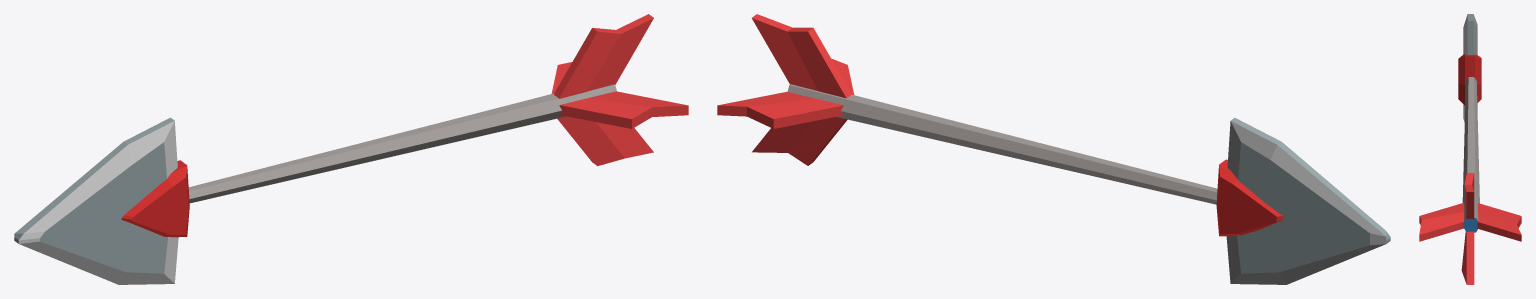
3 renders of one model, left to right at view 1: azimuth 30°, elevation 25°; view 2: azimuth 150°, elevation 25°; view 3: azimuth 270°, elevation 25°, orthographic. The views are drawn at different scales.
Visible parts, largest first — view 1: Arrow; view 2: Arrow; view 3: Arrow.
Part boxes in pixels (<box>): Arrow: <box>14,14,688,284</box>; Arrow: <box>717,14,1390,284</box>; Arrow: <box>1419,14,1521,284</box>.
Size of the model in its own units: 0.5511 by 0.1355 by 0.1116.
